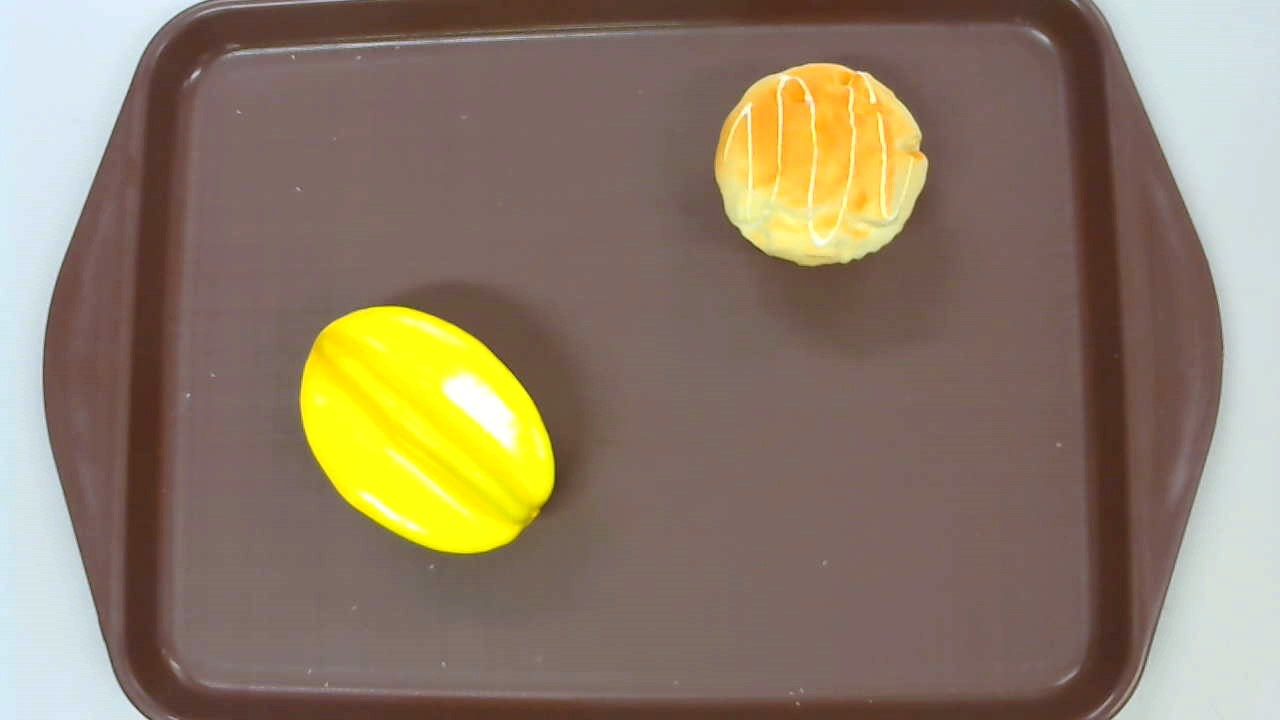cupcake: (715, 63, 928, 268)
star fruit: (300, 305, 554, 553)
